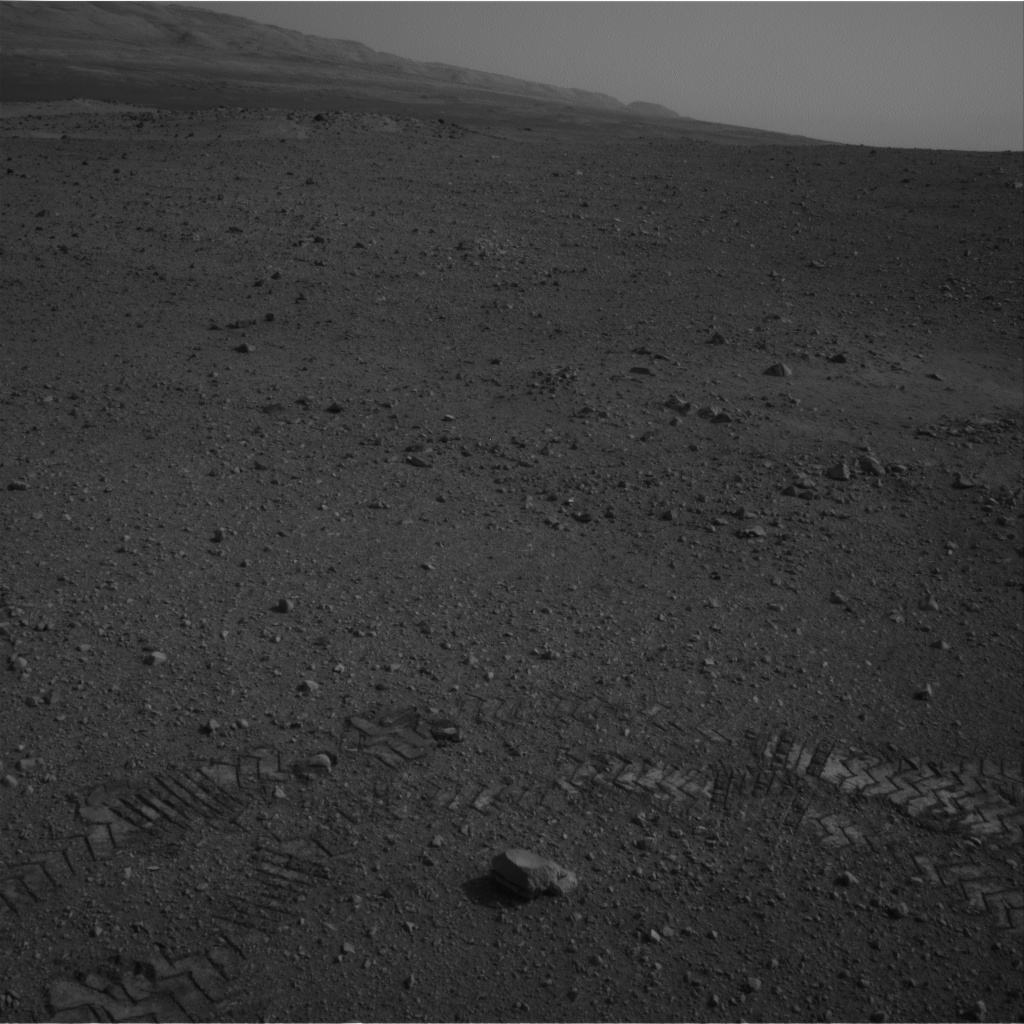soil: (4, 155, 1021, 1021)
